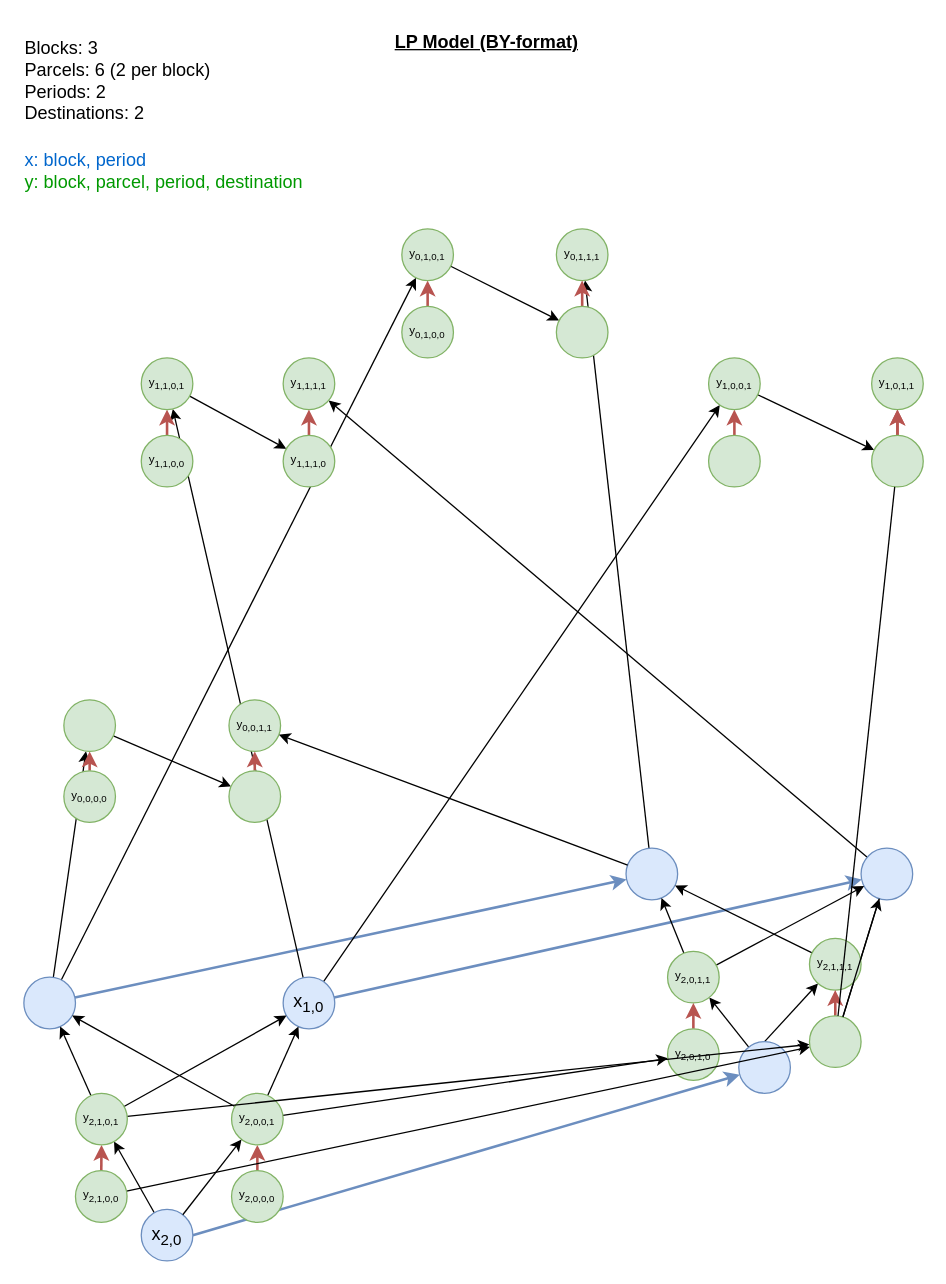
Image size: 946x1284. Some labels were removed from this diagram. Here are the shapes that lost their labels. From the top down, the centre of each, then its label:
At (581,331): "y 0,1,1,0".
At (733,460): "y 1,0 ,0,0".
At (896,460): "y 1,0,1,0".
At (89,725): "y 0,0,0,1".
At (254,795): "y 0,0,1,0".
At (651,873): "x 0,1".
At (886,873): "x 1,1".
At (49,1002): "x 0,0".
At (834,1041): "y 2,1,1,0".
At (763,1066): "x 2,1".
